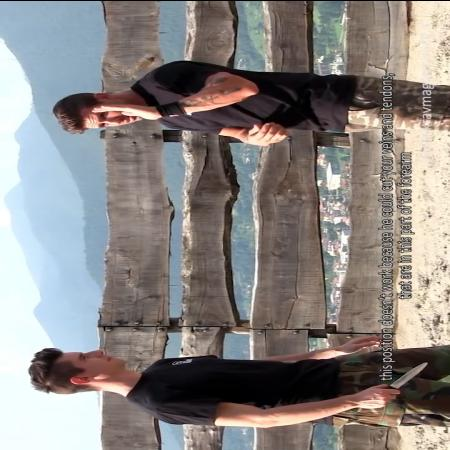long weapon: (364, 358, 436, 412)
